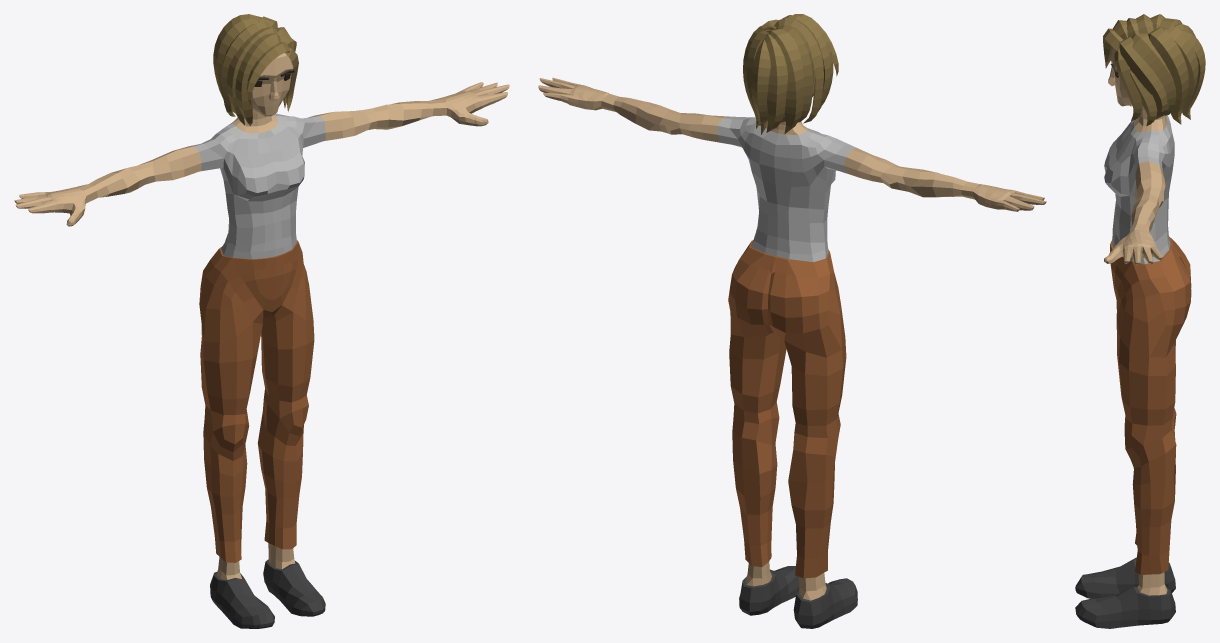
File: animated_woman_(1).glb
3 views of the same model, side by side, from view 1: azimuth 30°, elevation 25°; view 2: azimuth 150°, elevation 25°; view 3: azimuth 270°, elevation 25° (orthographic). The views are drawn at different scales.
Parts seen in each view (by area): view 1: Casual_Legs, Casual_Body_961d21, Casual_Body_e698a1, Casual_Head_9f7908, Casual_Feet_7c21c0, Casual_Head_8cf5ff, Casual_Feet_9f16c3; view 2: Casual_Legs, Casual_Body_961d21, Casual_Body_e698a1, Casual_Head_9f7908, Casual_Feet_7c21c0, Casual_Feet_9f16c3; view 3: Casual_Legs, Casual_Head_9f7908, Casual_Body_961d21, Casual_Feet_7c21c0, Casual_Body_e698a1, Casual_Head_8cf5ff, Casual_Feet_9f16c3.
Boxes of the visible parts, <box> form: Casual_Legs: <box>199,240,314,562</box>; Casual_Body_961d21: <box>189,113,325,259</box>; Casual_Body_e698a1: <box>14,82,509,226</box>; Casual_Head_9f7908: <box>213,14,298,125</box>; Casual_Feet_7c21c0: <box>210,559,325,628</box>; Casual_Head_8cf5ff: <box>252,53,293,119</box>; Casual_Feet_9f16c3: <box>216,543,295,579</box>; Casual_Legs: <box>728,240,846,578</box>; Casual_Body_961d21: <box>717,116,856,262</box>; Casual_Body_e698a1: <box>538,77,1046,211</box>; Casual_Head_9f7908: <box>743,14,838,134</box>; Casual_Feet_7c21c0: <box>739,566,857,628</box>; Casual_Feet_9f16c3: <box>746,561,826,600</box>; Casual_Legs: <box>1110,236,1191,574</box>; Casual_Head_9f7908: <box>1103,14,1205,126</box>; Casual_Body_961d21: <box>1104,115,1174,263</box>; Casual_Feet_7c21c0: <box>1075,557,1175,628</box>; Casual_Body_e698a1: <box>1104,17,1167,265</box>; Casual_Head_8cf5ff: <box>1108,47,1164,119</box>; Casual_Feet_9f16c3: <box>1137,572,1167,595</box>.
Size of the model in its own units: 1.65 by 1.85 by 0.3703.
